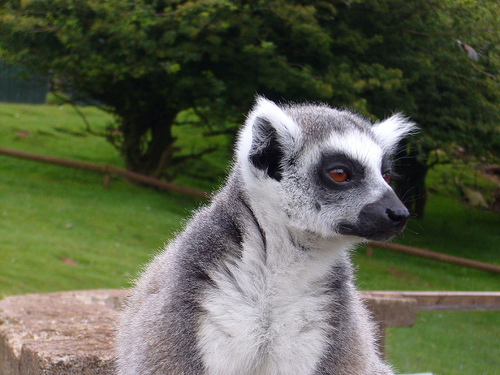cat: (116, 96, 412, 373)
